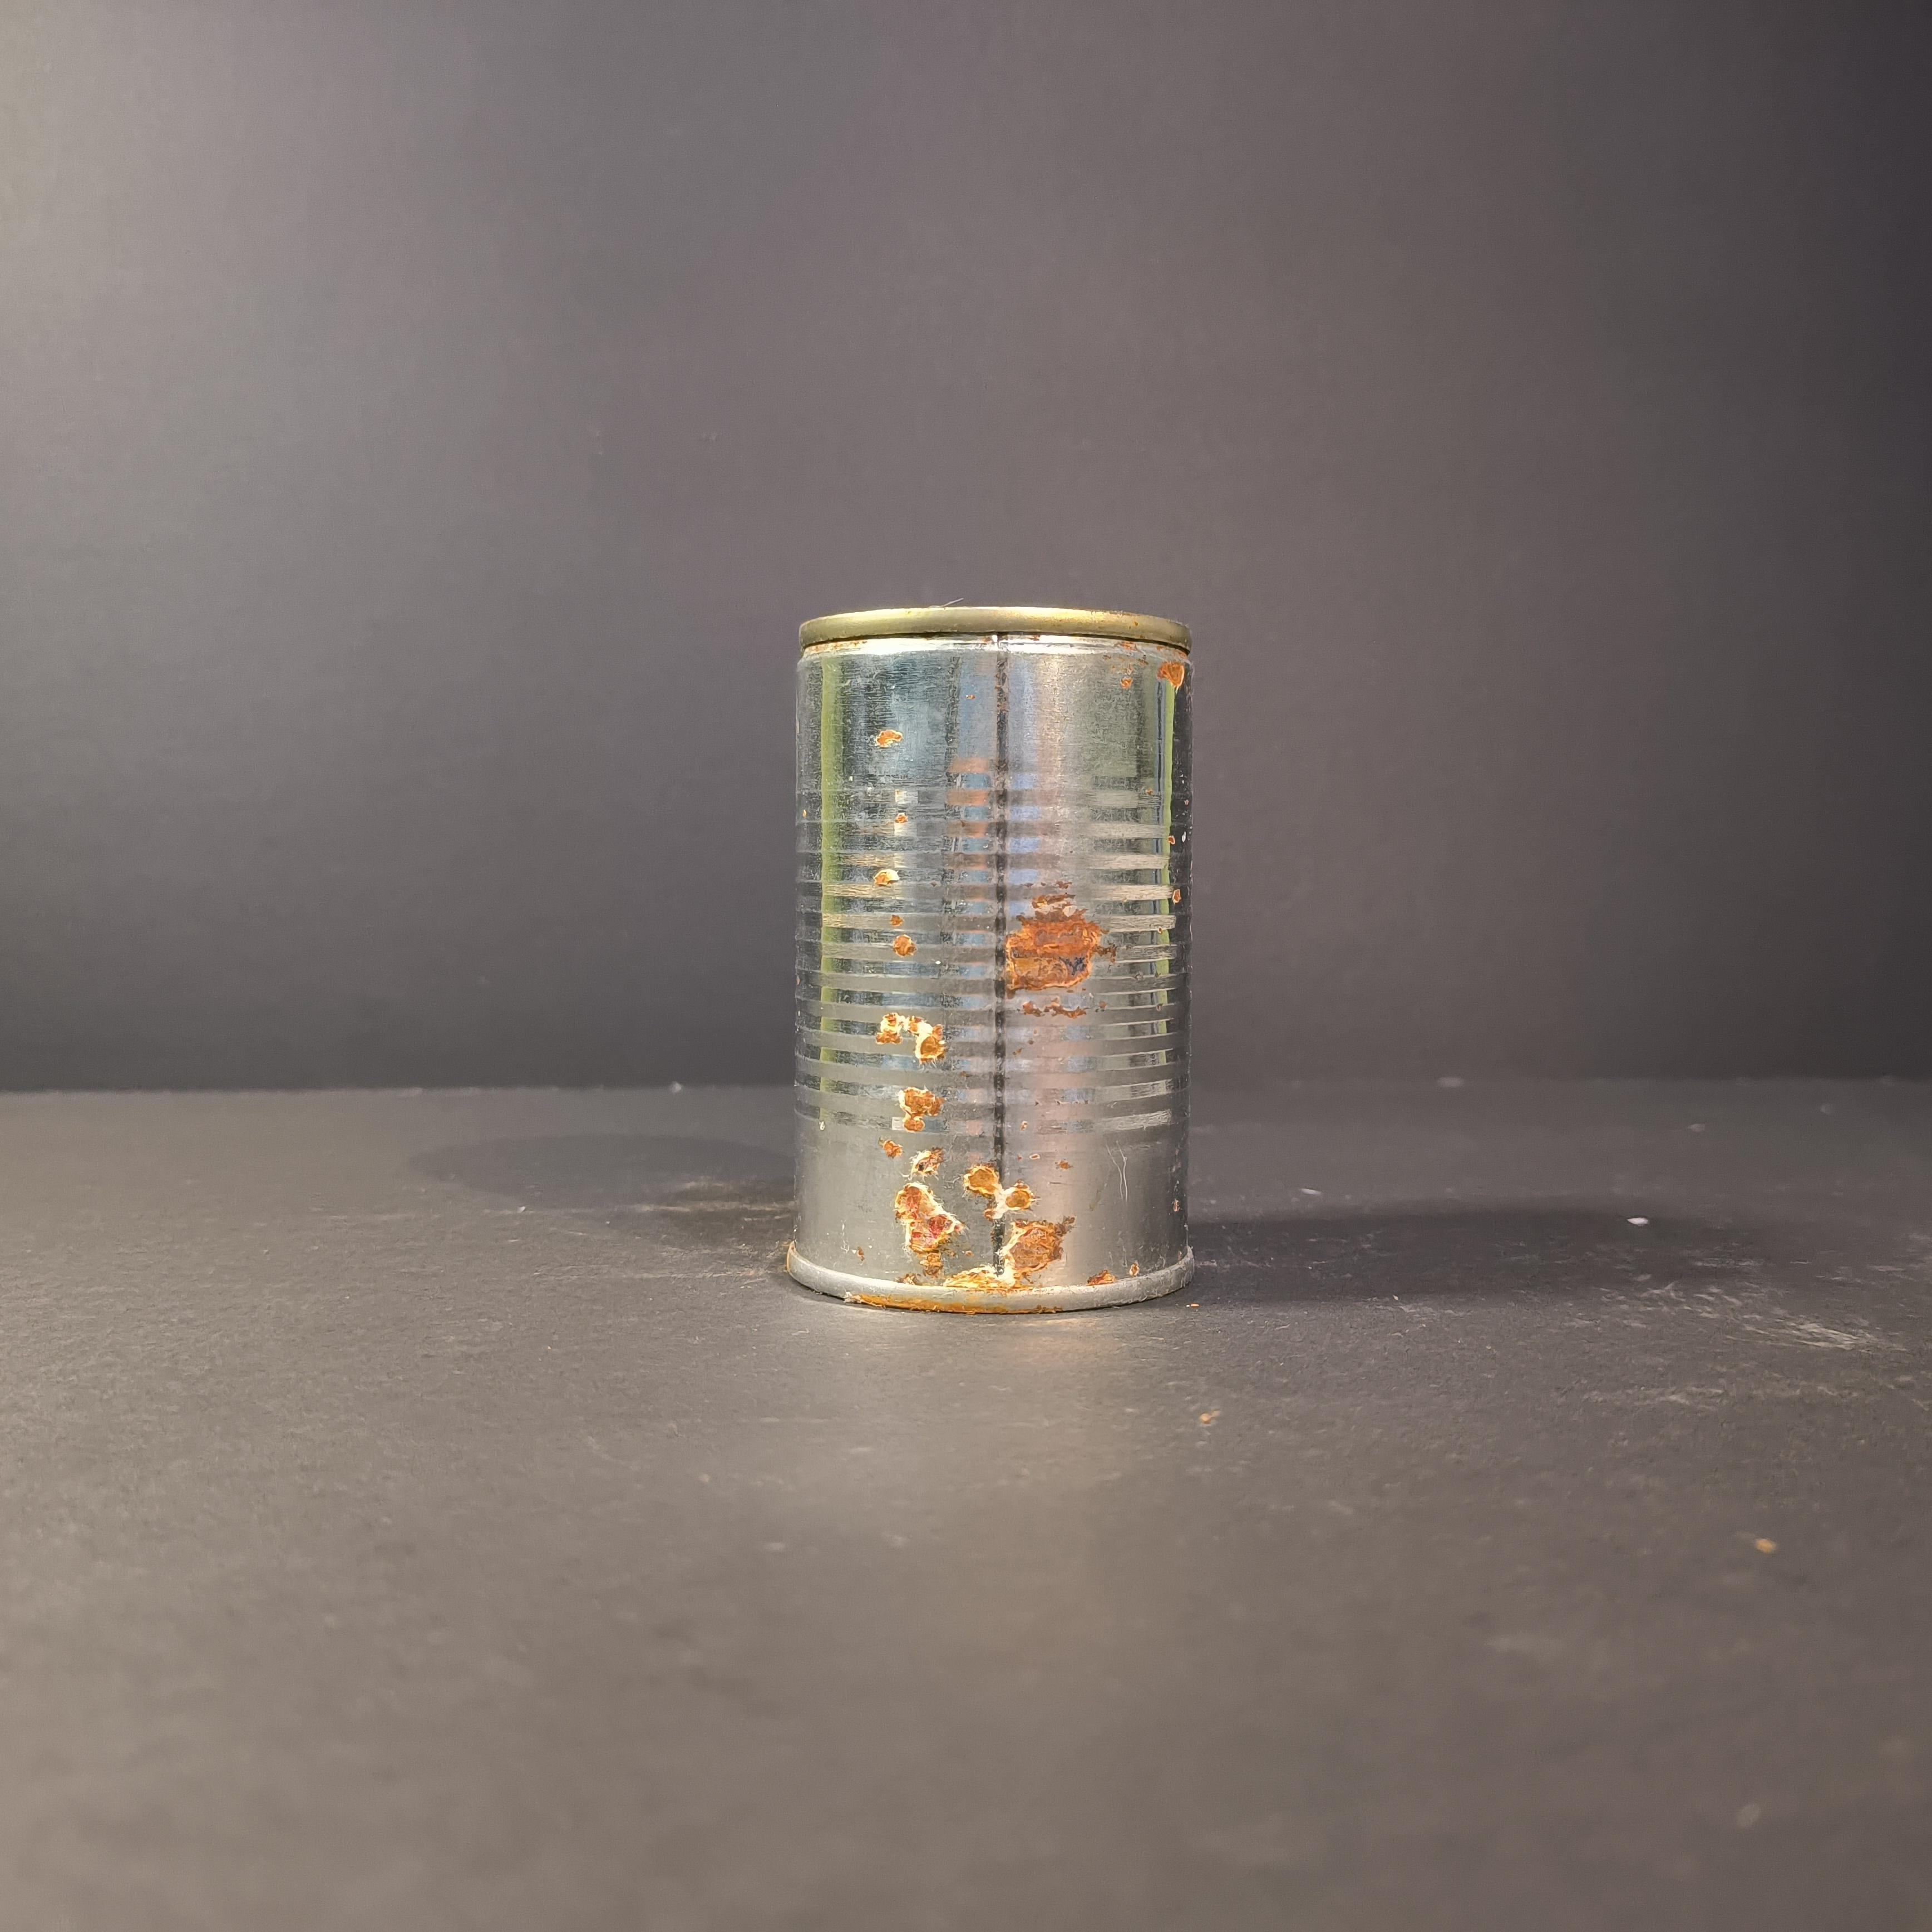Rusted: (773, 579, 1235, 1346)
